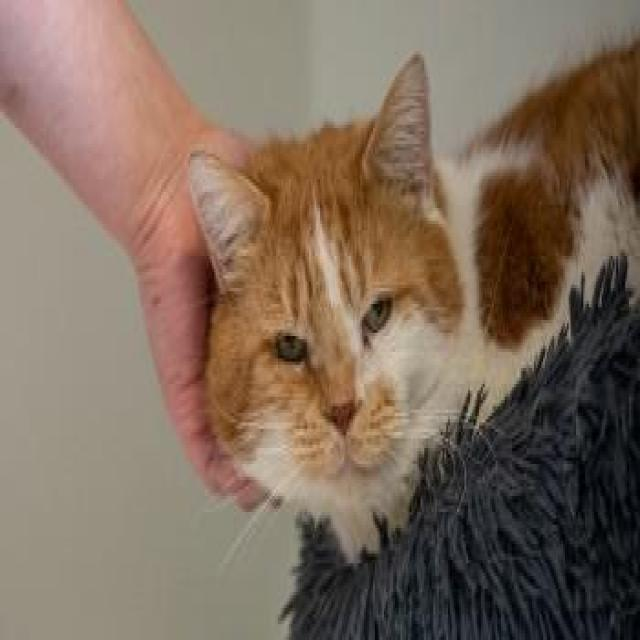Cat: (184, 42, 470, 506)
